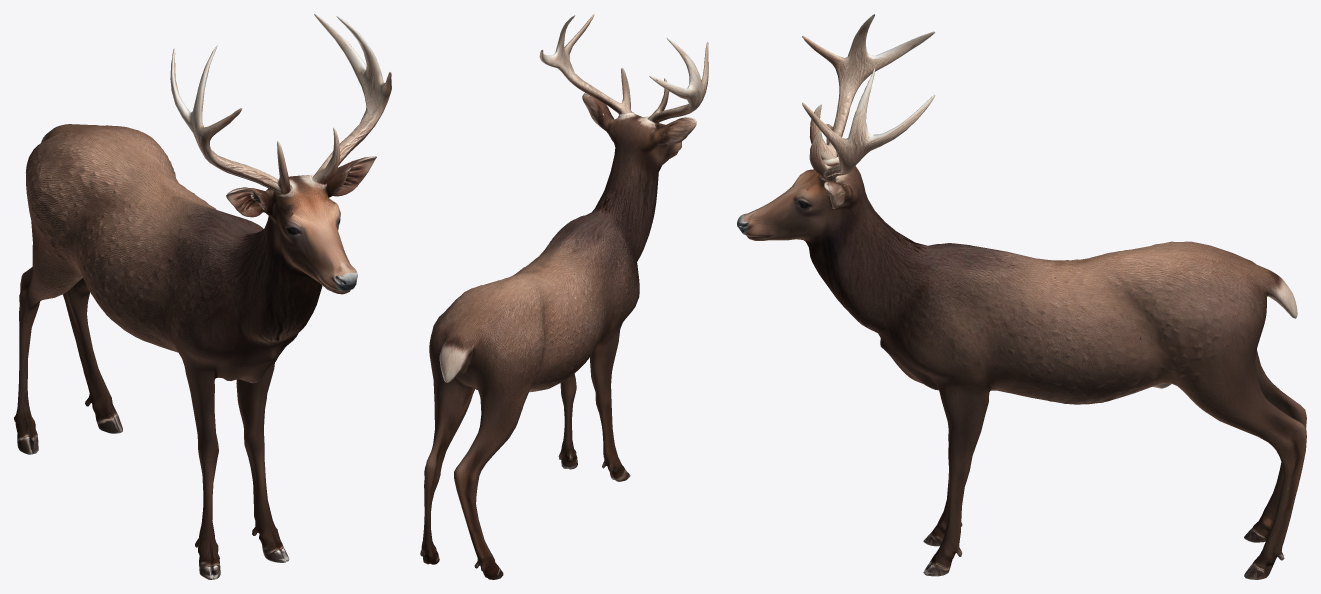
The model's file is deer.glb.
3 renders of one model, left to right at view 1: azimuth 30°, elevation 25°; view 2: azimuth 150°, elevation 25°; view 3: azimuth 270°, elevation 25°, orthographic. The views are drawn at different scales.
Bounding box in the file's own units: 0.6648 × 1.9 × 1.9.
1 material, 1 textured.
